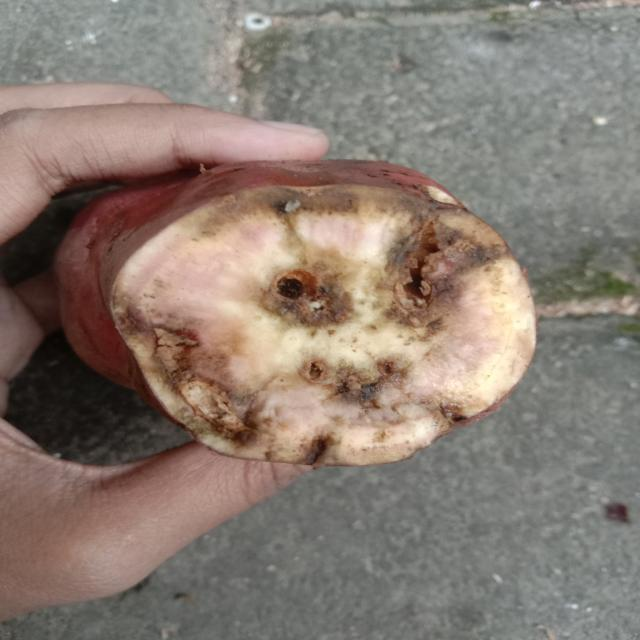Sick Sweet Potato_Tuber Rot: (100, 161, 535, 466)
